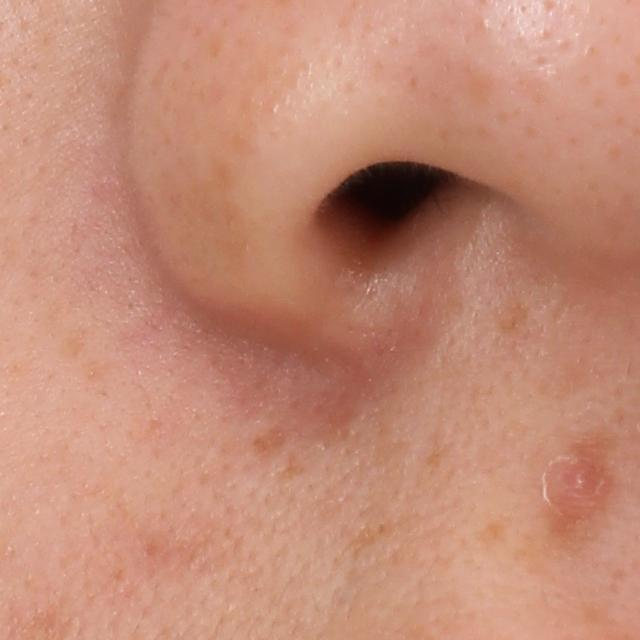melasma: (249, 424, 291, 456)
